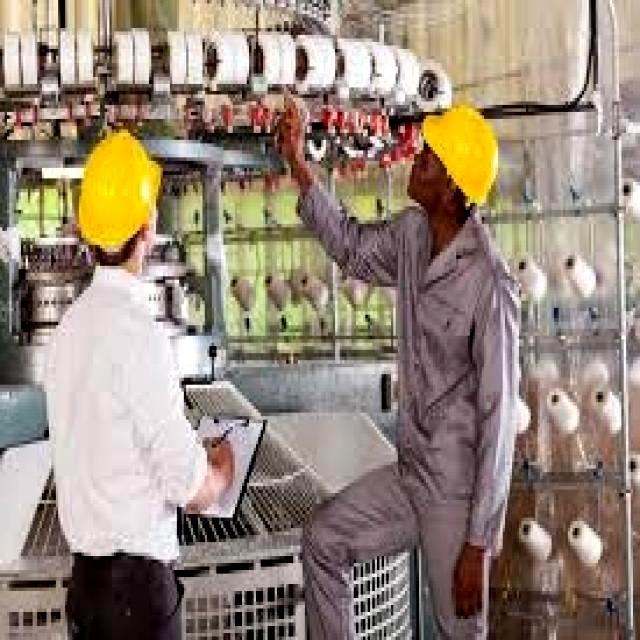Con_Casco: (79, 130, 162, 261)
